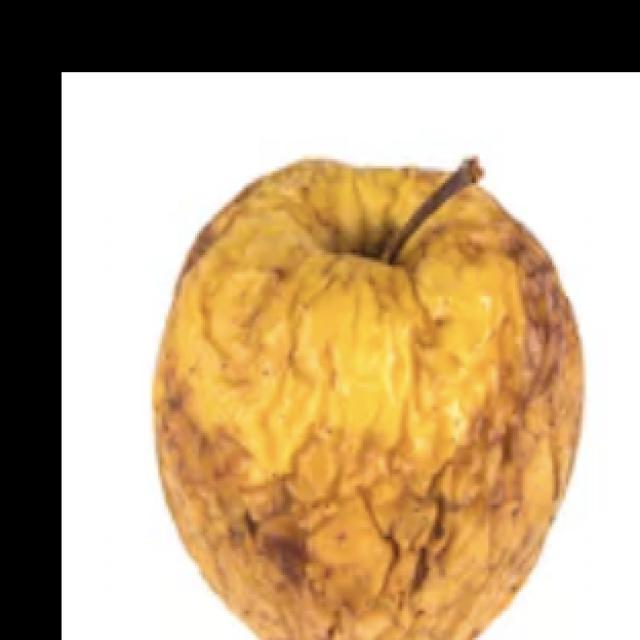Rotten: (149, 152, 591, 640)
